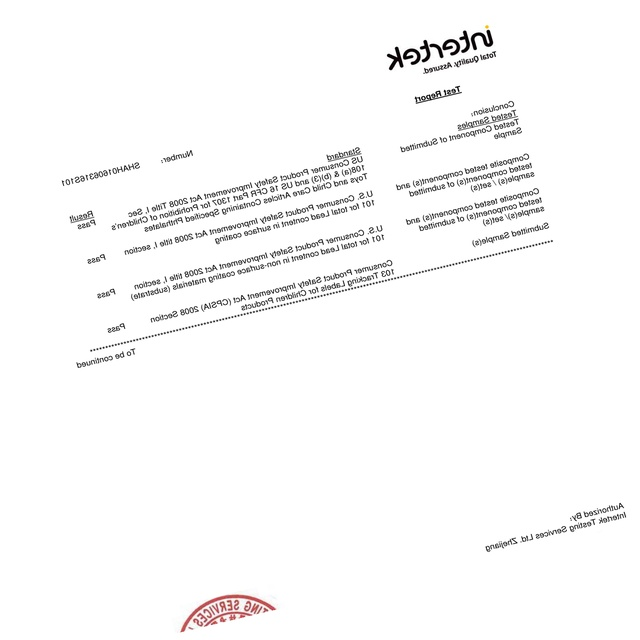intertek: (381, 22, 500, 72)
